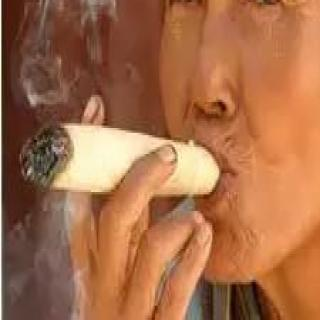smoke: (16, 0, 134, 103), (13, 206, 86, 320)
